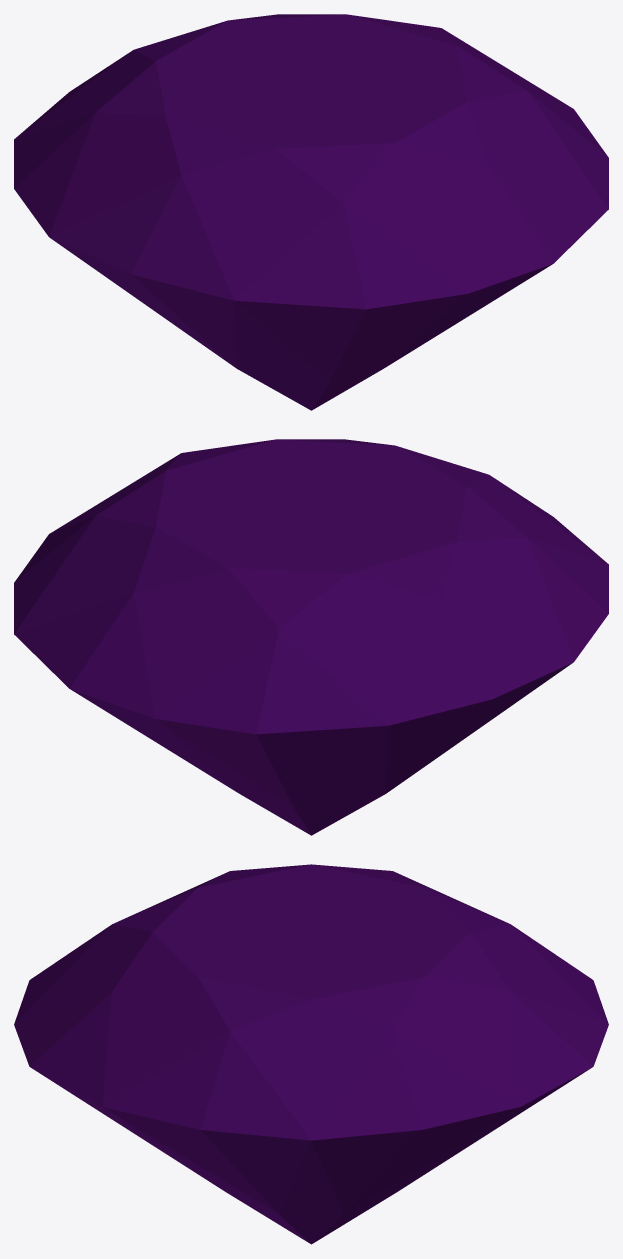
File: Amethyst.fbx
3 renders of one model, top to bottom at view 1: azimuth 30°, elevation 25°; view 2: azimuth 150°, elevation 25°; view 3: azimuth 270°, elevation 25°, orthographic. The views are drawn at different scales.
Visible parts, largest first — view 1: Plane; view 2: Plane; view 3: Plane.
Boxes of the visible parts, x1=… form: Plane: x1=14, y1=14, x2=608, y2=410; Plane: x1=14, y1=439, x2=608, y2=835; Plane: x1=14, y1=864, x2=608, y2=1244.
Size of the model in its own units: 516 by 309 by 534.
